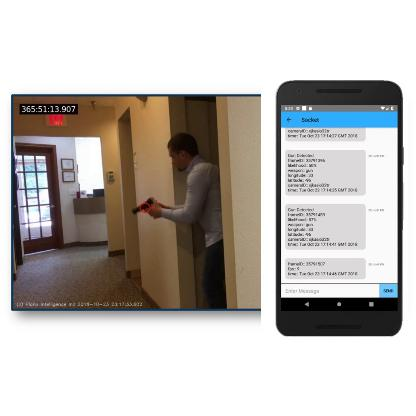gun: (130, 195, 160, 219)
